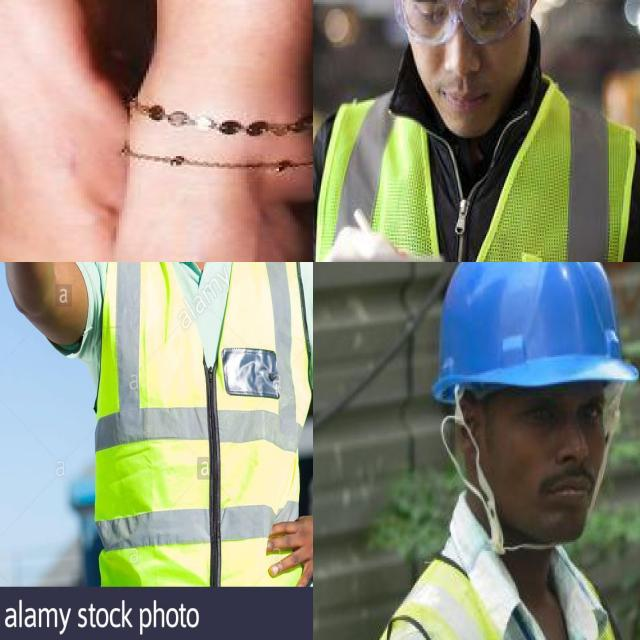Barefoots: (94, 128, 313, 262)
No_Glasses: (503, 390, 615, 449)
face_nomask: (486, 396, 628, 542), (390, 0, 529, 129)
glasses: (388, 0, 532, 46)
hand_noglove: (275, 492, 313, 585)
head_helmet: (428, 262, 640, 387)
person: (369, 262, 640, 640), (3, 262, 313, 586), (313, 0, 640, 262)
vest: (72, 262, 312, 593), (317, 72, 630, 262), (376, 540, 640, 640)
